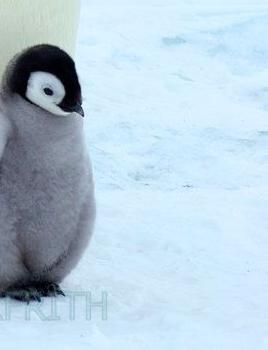Emperor Penguin: (0, 0, 159, 310)
